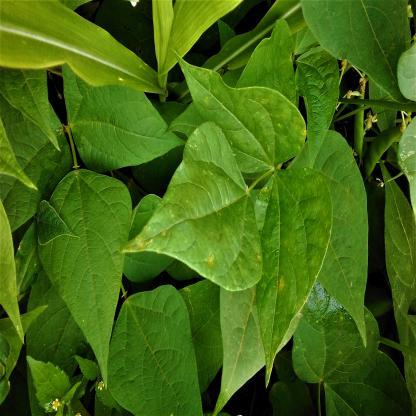Beans_Rust: (122, 126, 260, 288), (257, 165, 335, 381), (170, 53, 310, 161), (288, 284, 376, 384)
